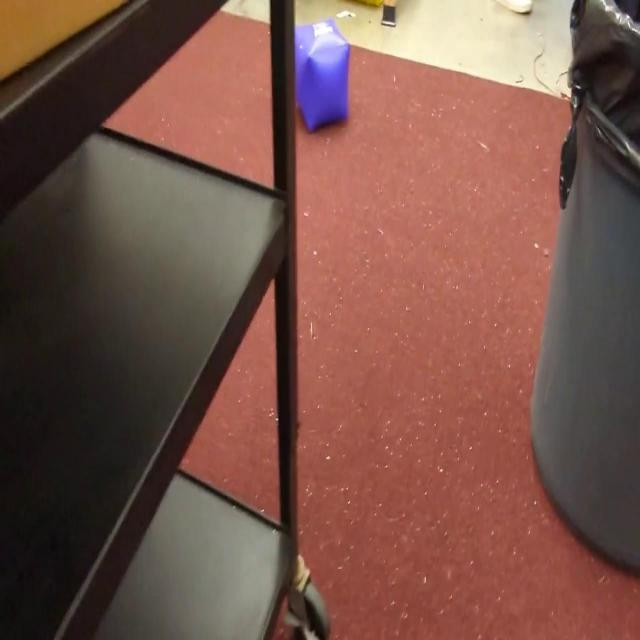frc_cube: (294, 19, 351, 133)
